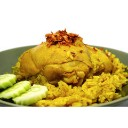briyani: (18, 30, 123, 99)
